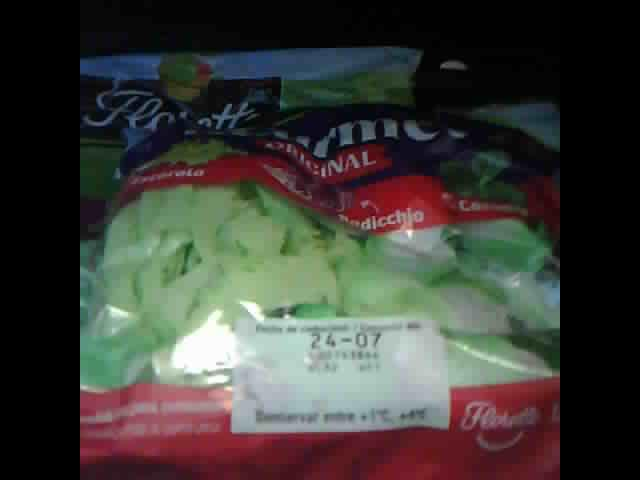florette: (82, 42, 558, 478)
